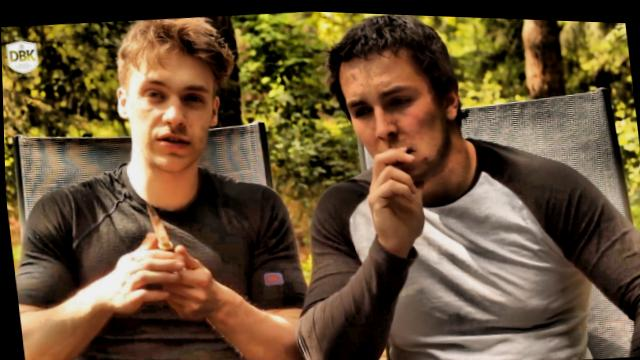knife: (132, 185, 207, 324)
